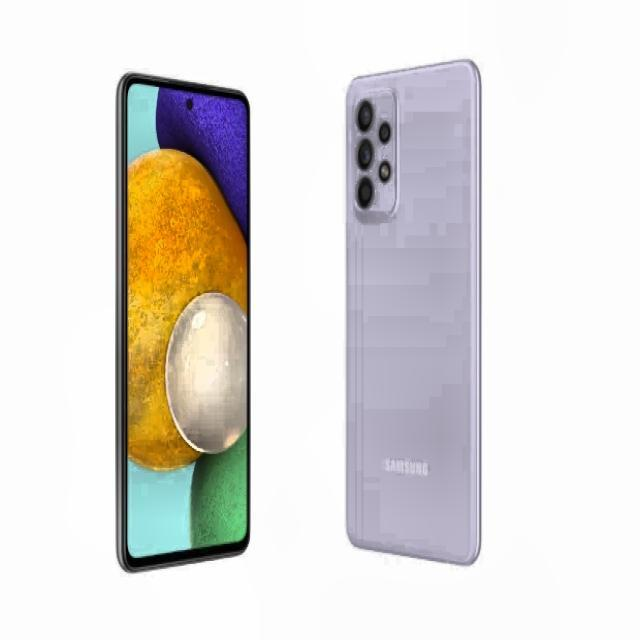Phone: (344, 59, 484, 570), (116, 71, 252, 574)
